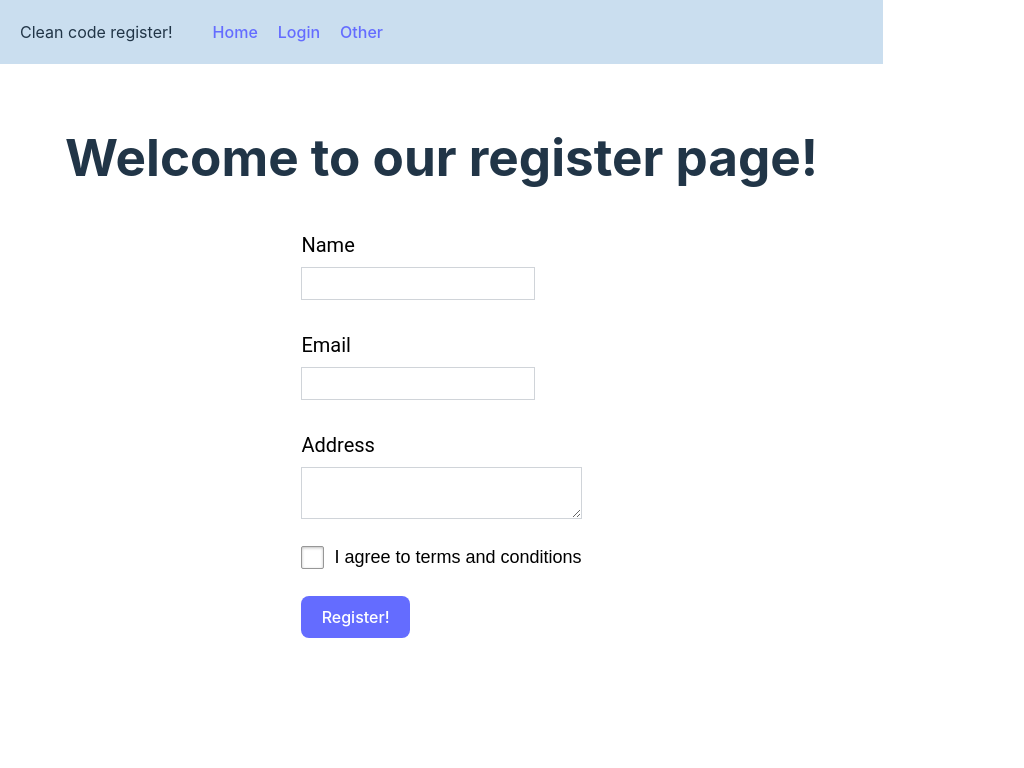
RegistrationPage › Renders errors on submit of empty form
Click the button "Register!": (356, 617) [302,596,410,638]
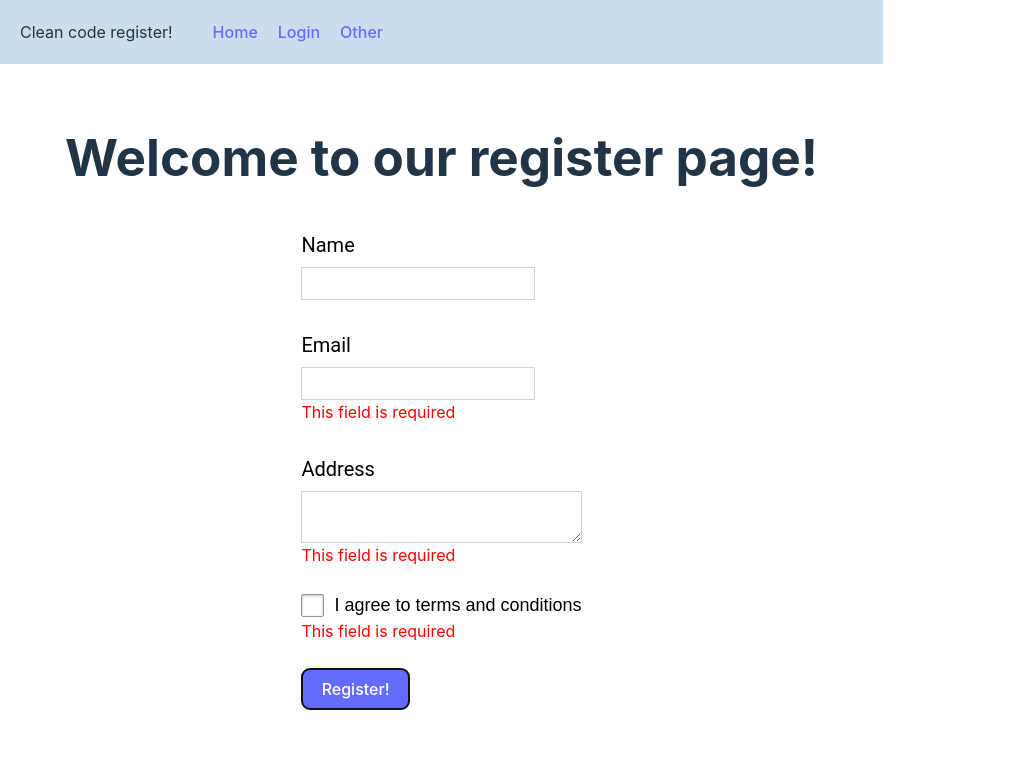
Expected: the text "This field is required" below "I agree to terms and conditions" is shown, [302,621,455,641]
